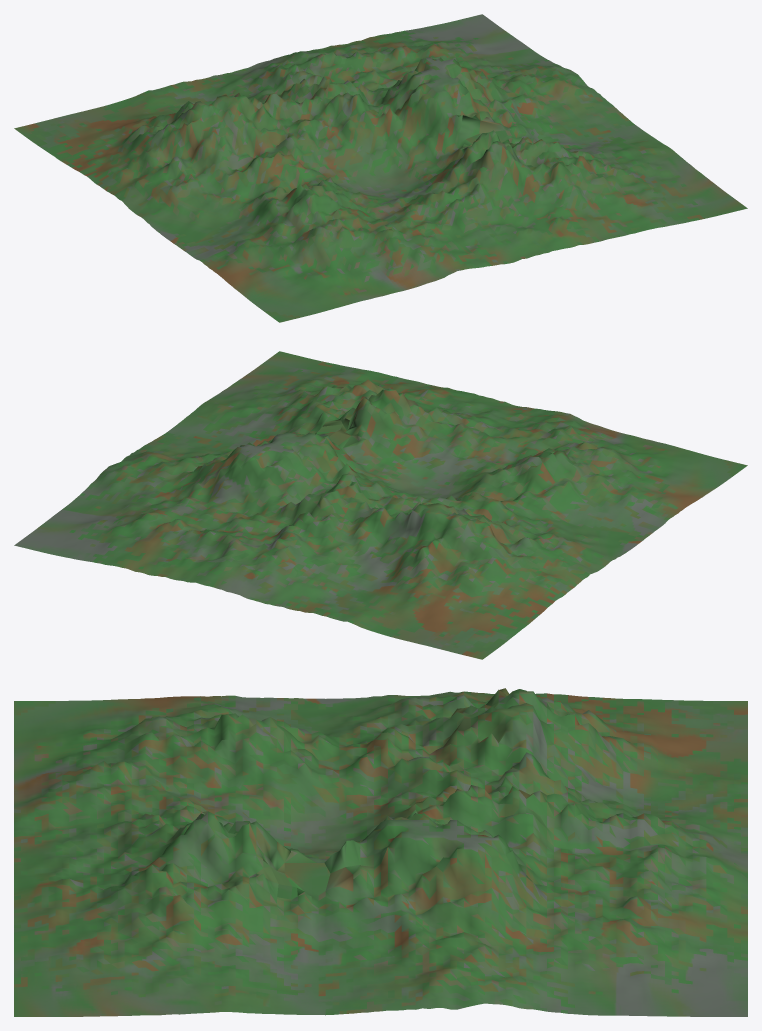
The model's file is hills1.glb.
3 renders of one model, top to bottom at view 1: azimuth 30°, elevation 25°; view 2: azimuth 150°, elevation 25°; view 3: azimuth 270°, elevation 25°, orthographic. The views are drawn at different scales.
Visible parts, largest first — view 1: Landscape.A1_collider; view 2: Landscape.A1_collider; view 3: Landscape.A1_collider.
Boxes of the visible parts, x1,y1,x2,y2 form: Landscape.A1_collider: (14, 14, 747, 322); Landscape.A1_collider: (14, 351, 747, 659); Landscape.A1_collider: (14, 688, 747, 1016).
Size of the model in its own units: 89.13 by 10.51 by 87.48.
1 material, 1 textured.
